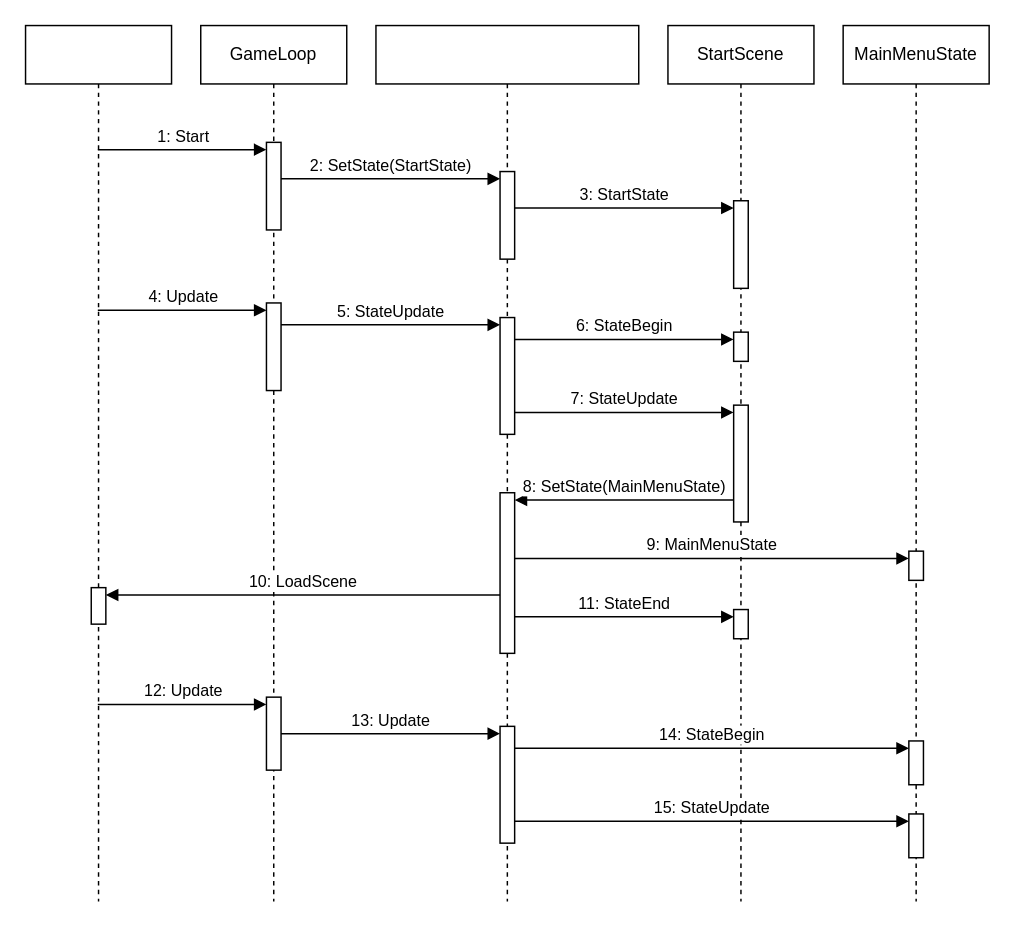
The diagram is 1015 pixels wide and 927 high, and some of its shapes have lost their labels. Here are the shapes that lost their labels. From the top down, the box of each, then its label:
(24, 24, 172, 902): Unity
(374, 24, 639, 902): SceneStateController
